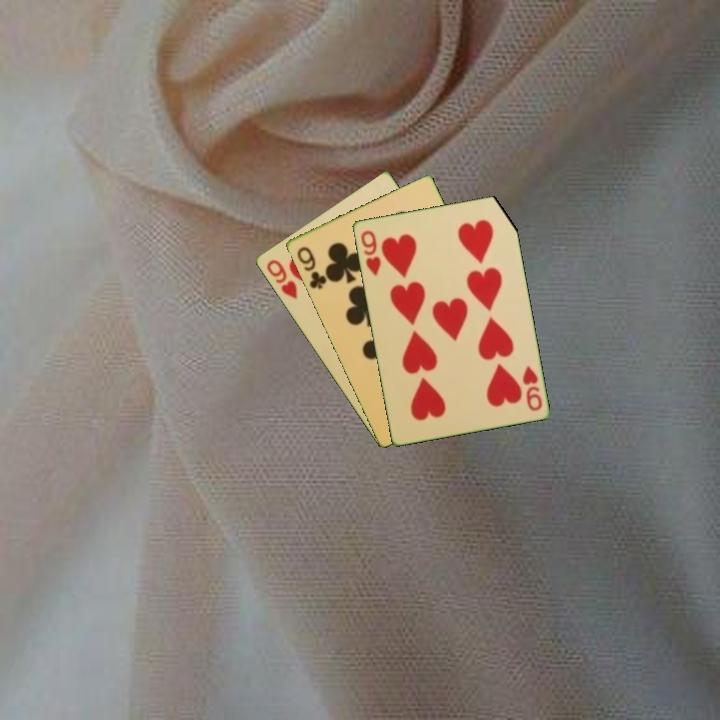9c: (293, 243, 329, 292)
9h: (263, 256, 300, 302), (357, 227, 384, 279), (519, 362, 545, 414)
